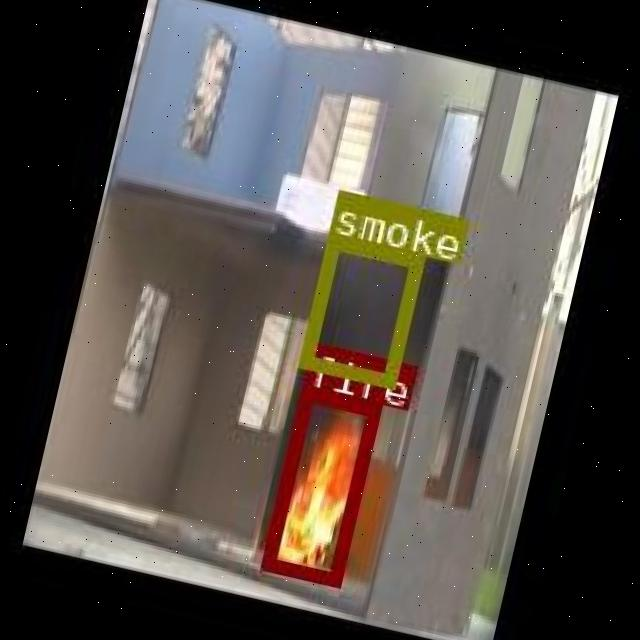fire: (258, 384, 378, 584)
smoke: (298, 232, 421, 384)
